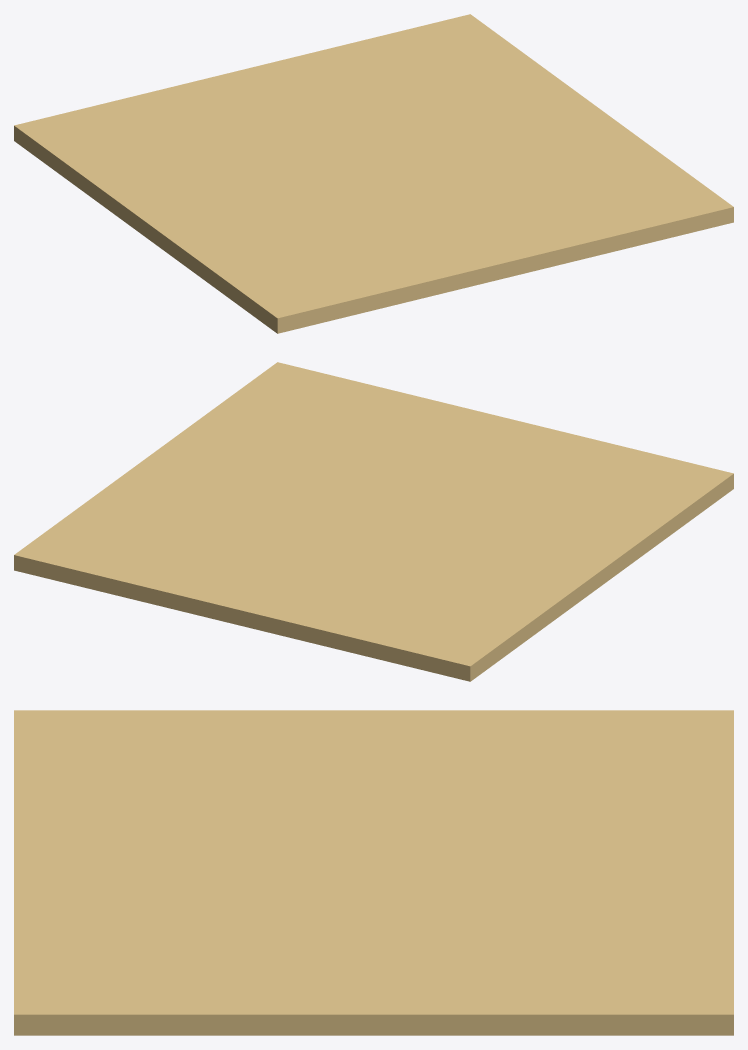
Rendered from Roof1_BaseTextured.fbx.
3 renders of one model, top to bottom at view 1: azimuth 30°, elevation 25°; view 2: azimuth 150°, elevation 25°; view 3: azimuth 270°, elevation 25°, orthographic. The views are drawn at different scales.
Parts seen in each view (by area): view 1: pCube1; view 2: pCube1; view 3: pCube1.
Part boxes in pixels (<box>): pCube1: <box>14,14,733,333</box>; pCube1: <box>14,362,733,681</box>; pCube1: <box>14,710,733,1035</box>.
Size of the model in its own units: 4 by 0.3141 by 4.
